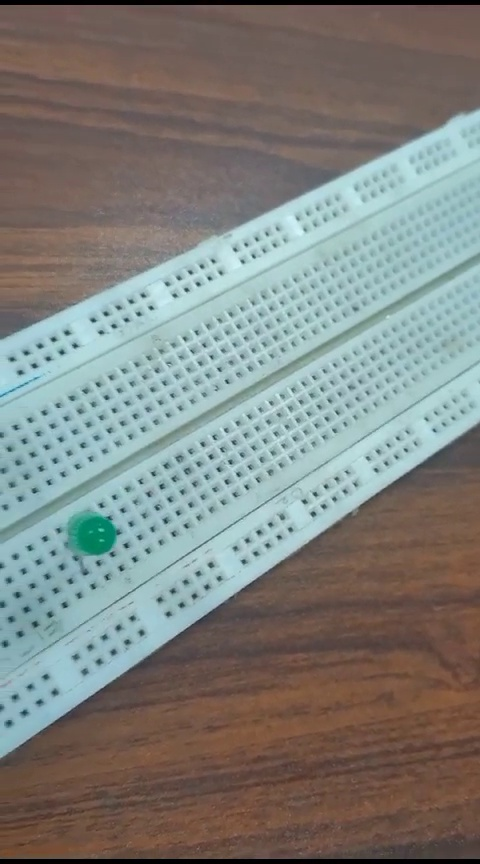LED: (64, 507, 120, 569)
